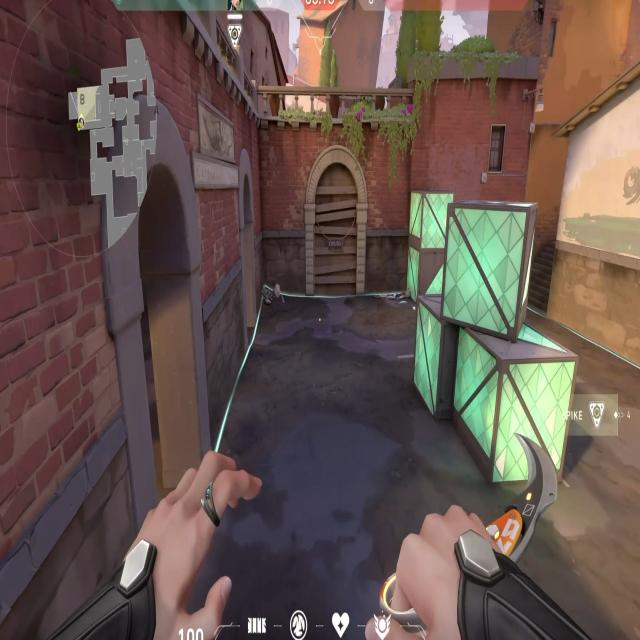B_Boathouse: (78, 137, 213, 566)
B_Site_Box: (422, 193, 569, 485)
